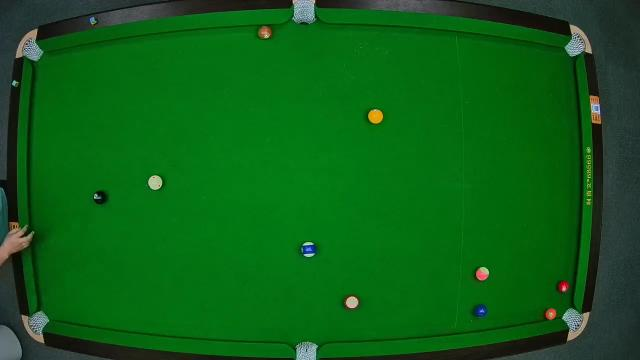bag1: (19, 36, 45, 64)
bag2: (292, 0, 316, 26)
bag3: (563, 30, 589, 57)
bag4: (25, 309, 51, 339)
bag5: (294, 340, 318, 360)
bag6: (560, 306, 586, 334)
ball0: (148, 173, 164, 191)
ball1: (367, 107, 385, 125)
ball10: (300, 240, 318, 260)
ball11: (344, 294, 361, 310)
ball12: (474, 266, 490, 282)
ball2: (472, 303, 488, 319)
ball3: (556, 280, 572, 296)
ball5: (542, 306, 560, 320)
ball7: (256, 23, 274, 41)
ball8: (92, 189, 108, 207)
